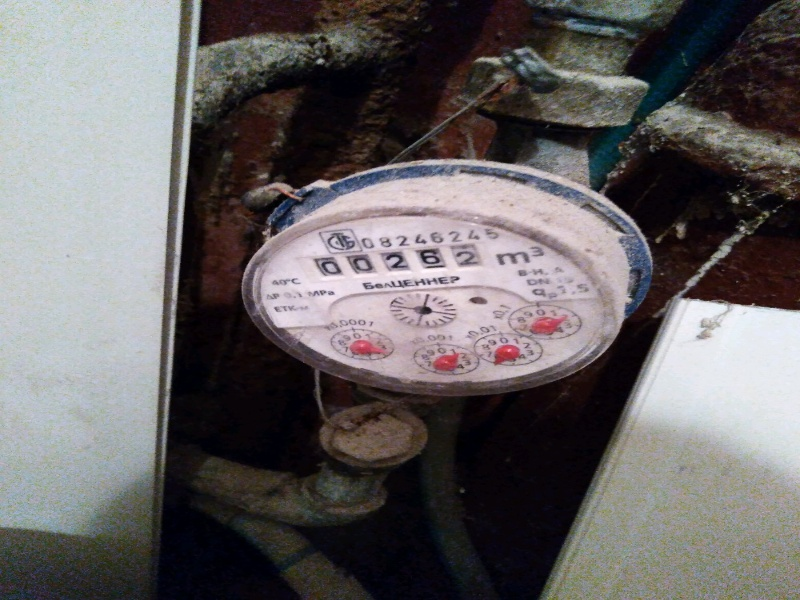meter: (305, 250, 490, 278)
